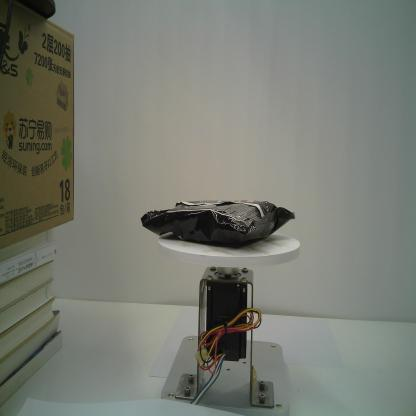Instant Noodles: (140, 200, 296, 247)
